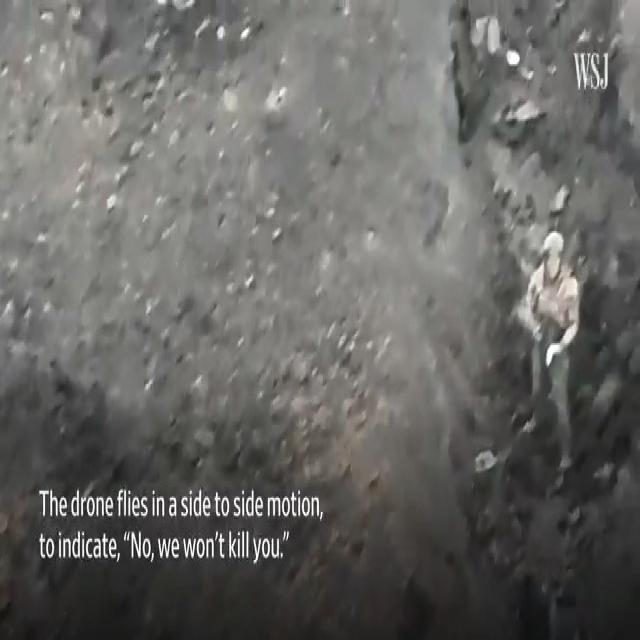MIL_Pax: (520, 231, 580, 468)
